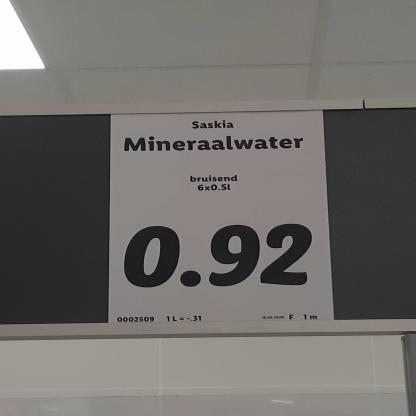prtg: (108, 111, 336, 324)
